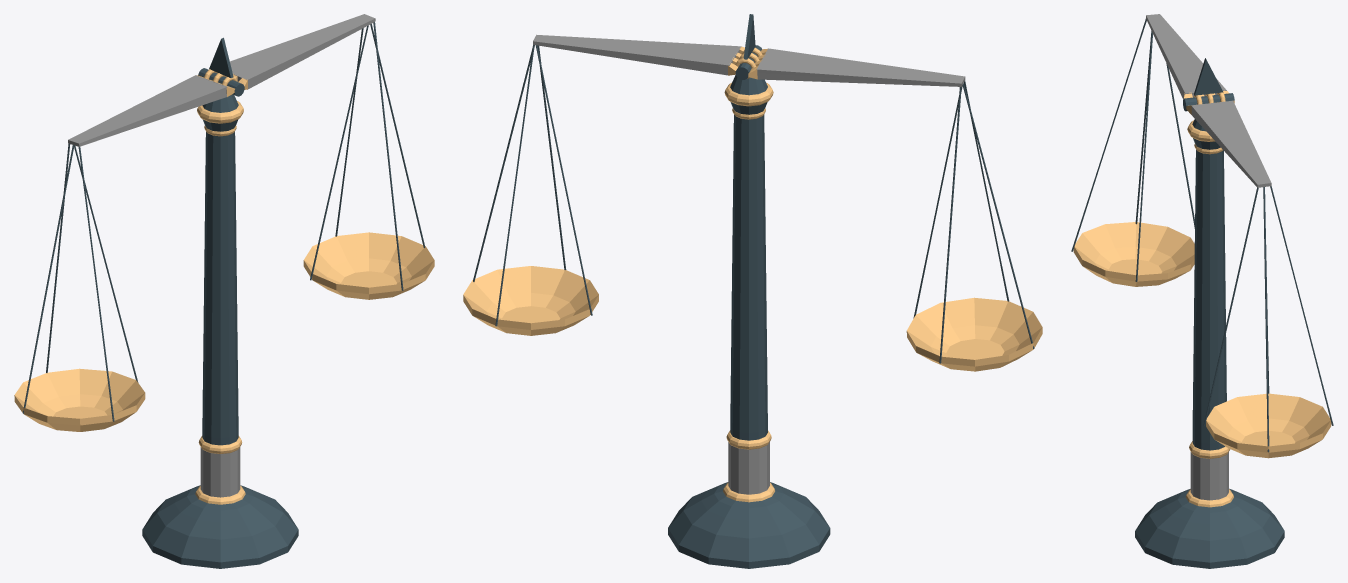
The model's file is Waage.fbx.
The picture shows the model from 3 angles, left to right: view 1: azimuth 30°, elevation 25°; view 2: azimuth 150°, elevation 25°; view 3: azimuth 270°, elevation 25°; orthographic projection. The views are drawn at different scales.
Parts seen in each view (by area): view 1: mesh_1645211238, mesh_1509641040, mesh_2063865923, mesh_2075815074, mesh_131527867, mesh_1640879320, mesh_1440307257, mesh_717037476, mesh_1512835569, mesh_1647324675, mesh_904988053, mesh_1700813215 (+2 smaller); view 2: mesh_1645211238, mesh_1509641040, mesh_2075815074, mesh_2063865923, mesh_131527867, mesh_1640879320, mesh_1440307257; view 3: mesh_1645211238, mesh_1509641040, mesh_2063865923, mesh_2075815074, mesh_1640879320, mesh_131527867, mesh_1440307257, mesh_995072892, mesh_1435350237, mesh_717037476, mesh_2011199820, mesh_2051965528 (+5 smaller).
Boxes of the visible parts, <box> form: mesh_1645211238: <box>202,94,238,445</box>; mesh_1509641040: <box>142,485,298,568</box>; mesh_2063865923: <box>303,232,434,299</box>; mesh_2075815074: <box>14,368,145,431</box>; mesh_131527867: <box>68,75,227,146</box>; mesh_1640879320: <box>230,14,375,89</box>; mesh_1440307257: <box>200,447,240,497</box>; mesh_717037476: <box>373,22,403,290</box>; mesh_1512835569: <box>23,145,74,413</box>; mesh_1647324675: <box>78,147,114,421</box>; mesh_904988053: <box>310,25,368,280</box>; mesh_1700813215: <box>197,101,243,123</box>; mesh_1645211238: <box>730,75,767,440</box>; mesh_1509641040: <box>668,482,830,568</box>; mesh_2075815074: <box>906,297,1042,371</box>; mesh_2063865923: <box>463,266,598,335</box>; mesh_131527867: <box>756,48,965,86</box>; mesh_1640879320: <box>533,34,741,75</box>; mesh_1440307257: <box>728,442,769,494</box>; mesh_1645211238: <box>1192,119,1226,450</box>; mesh_1509641040: <box>1135,488,1284,568</box>; mesh_2063865923: <box>1206,393,1331,458</box>; mesh_2075815074: <box>1073,222,1194,286</box>; mesh_1640879320: <box>1191,100,1271,187</box>; mesh_131527867: <box>1146,14,1226,98</box>; mesh_1440307257: <box>1190,452,1228,500</box>; mesh_995072892: <box>1263,187,1269,452</box>; mesh_1435350237: <box>1194,58,1223,95</box>; mesh_717037476: <box>1203,187,1258,425</box>; mesh_2011199820: <box>1135,31,1152,281</box>; mesh_2051965528: <box>1270,186,1333,425</box>.
Bounding box in the file's own units: 150 × 152 × 75.36.
